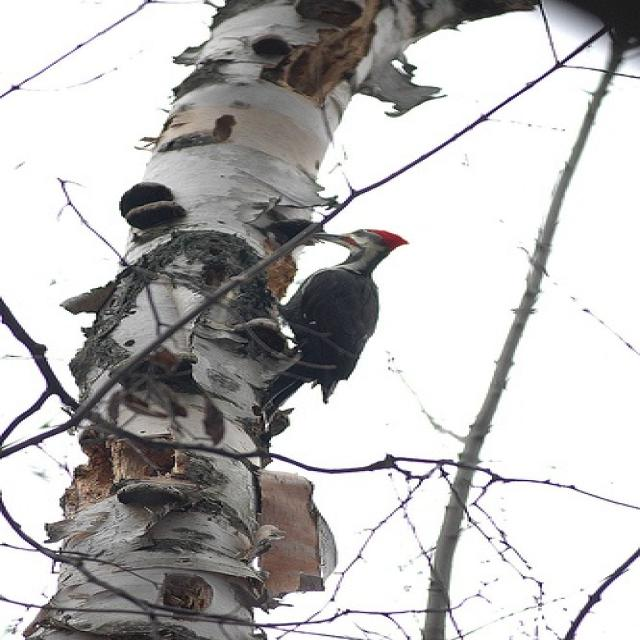bird: (284, 226, 410, 404)
